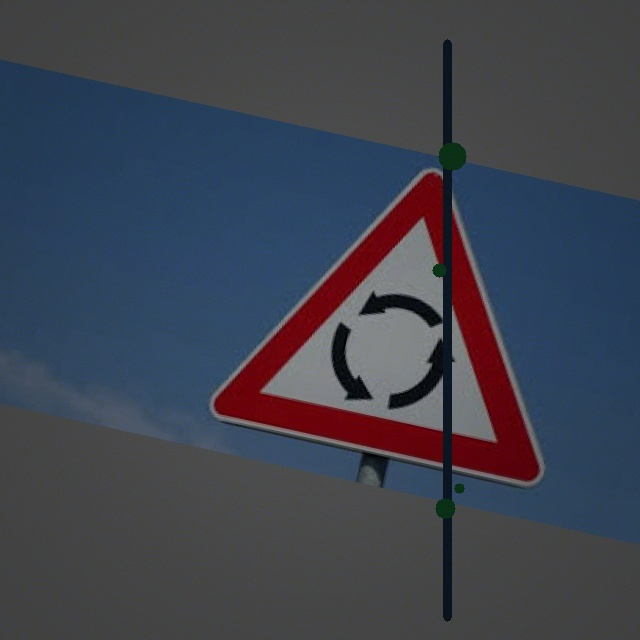Round_About: (213, 128, 590, 486)
